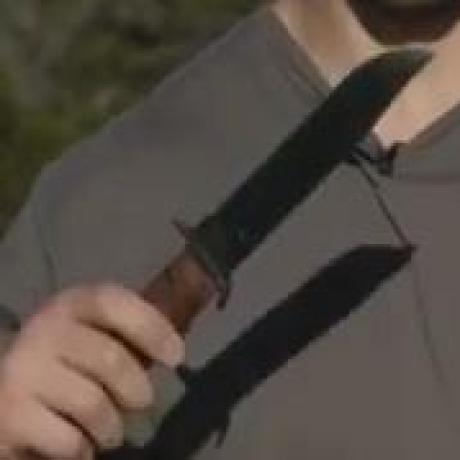1: (0, 272, 190, 460)
weapon: (164, 47, 446, 312)
